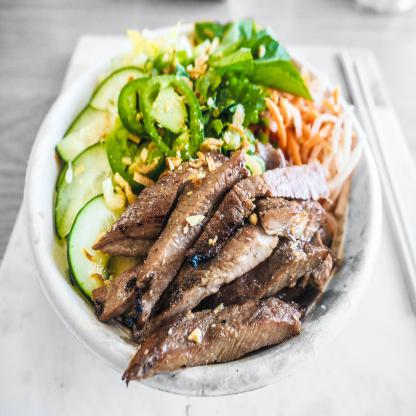Carne: (140, 169, 286, 338), (121, 152, 258, 319), (124, 300, 310, 386), (114, 166, 205, 260), (235, 244, 337, 292)
